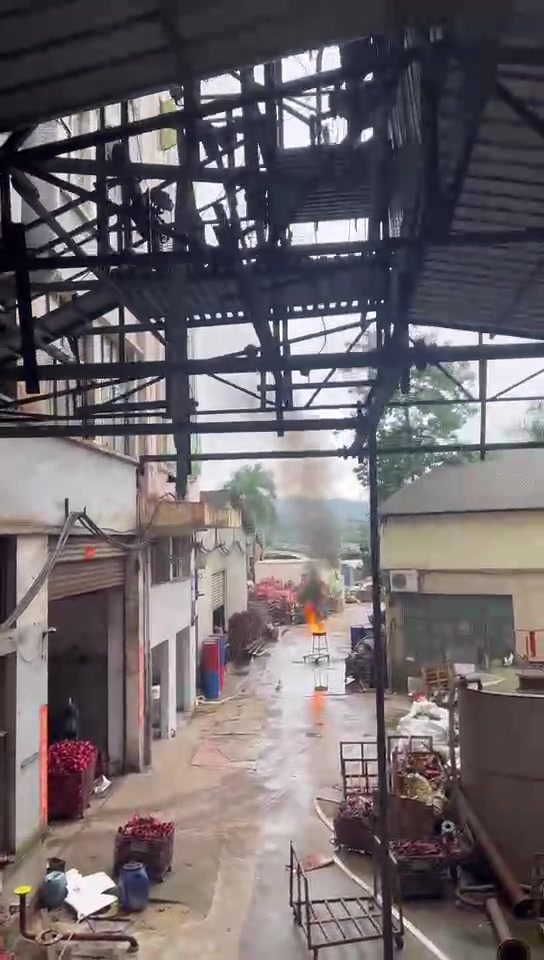fire: (304, 602, 323, 632)
